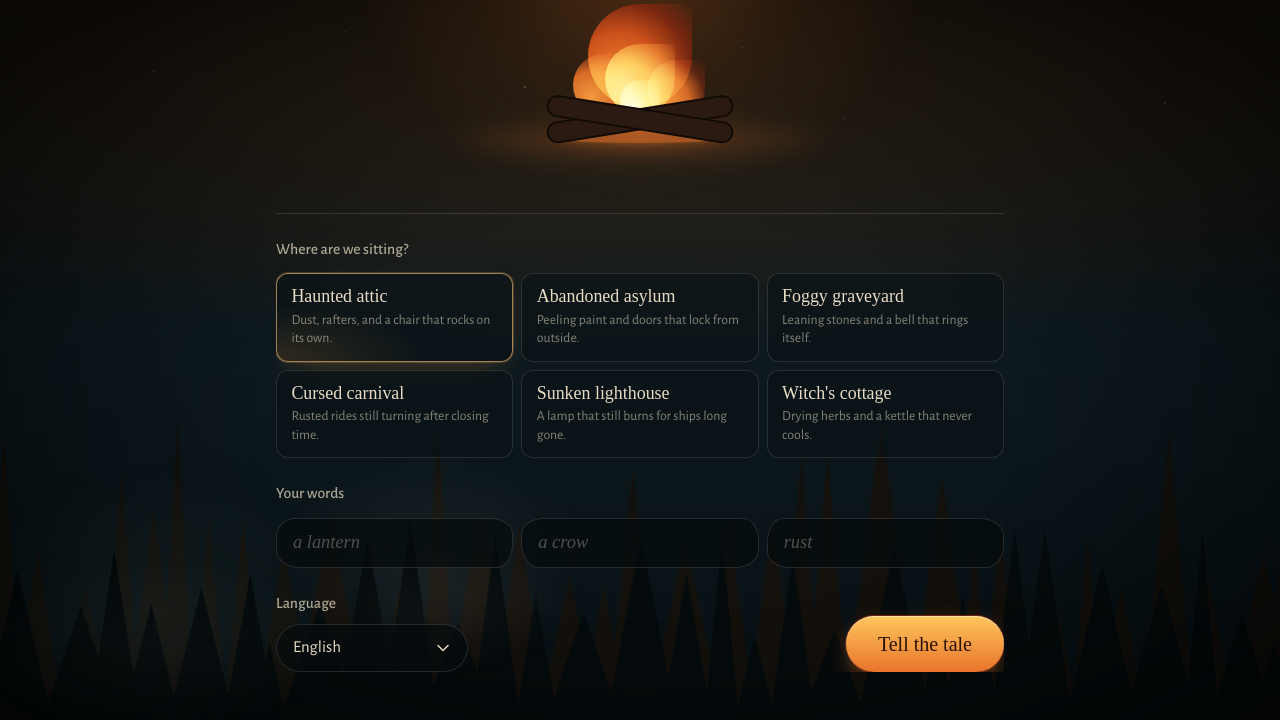
Test: App: problems are shown in the scene, never as a blank page › a word the server would refuse → a hint on that word, no request
(page scrolled)
Type "old house" into the field with placeholder "a lantern" at (395,543), box [276,518,513,568]
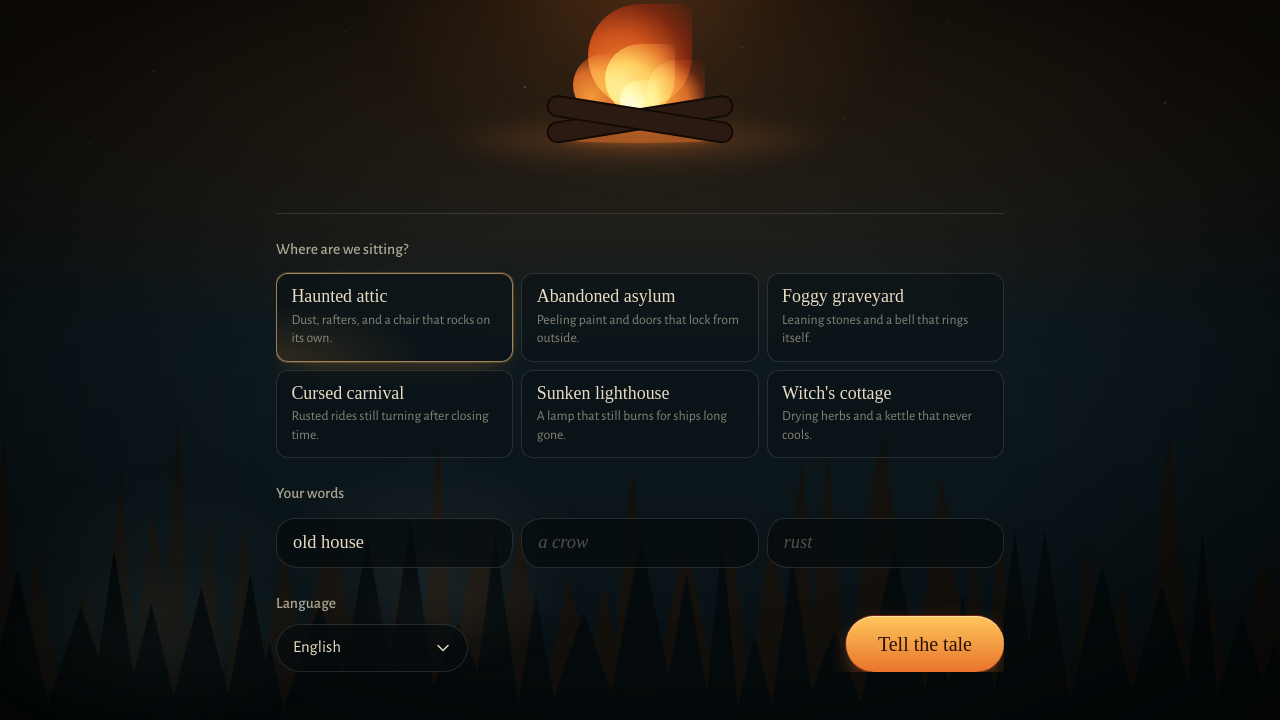
Click the button "Tell the tale" at (925,644), box [846,616,1004,672]
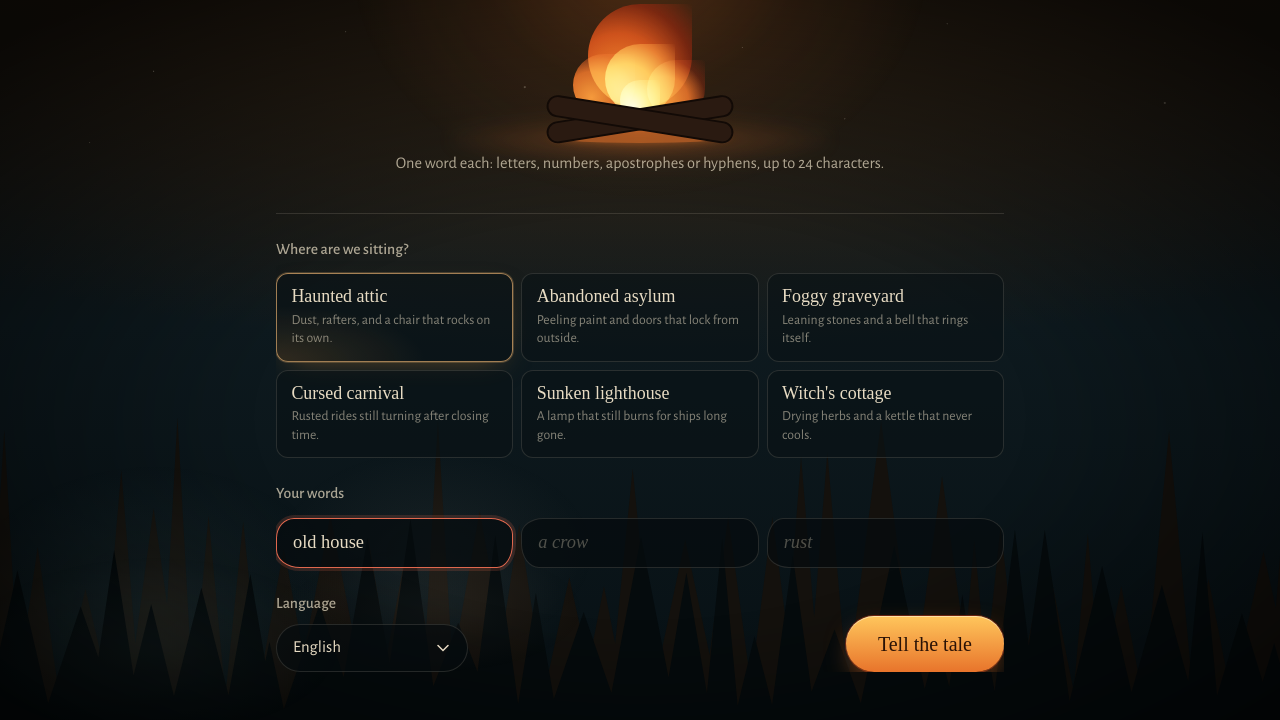
Expected: the text "One word each" is shown, [396,155,884,171]
